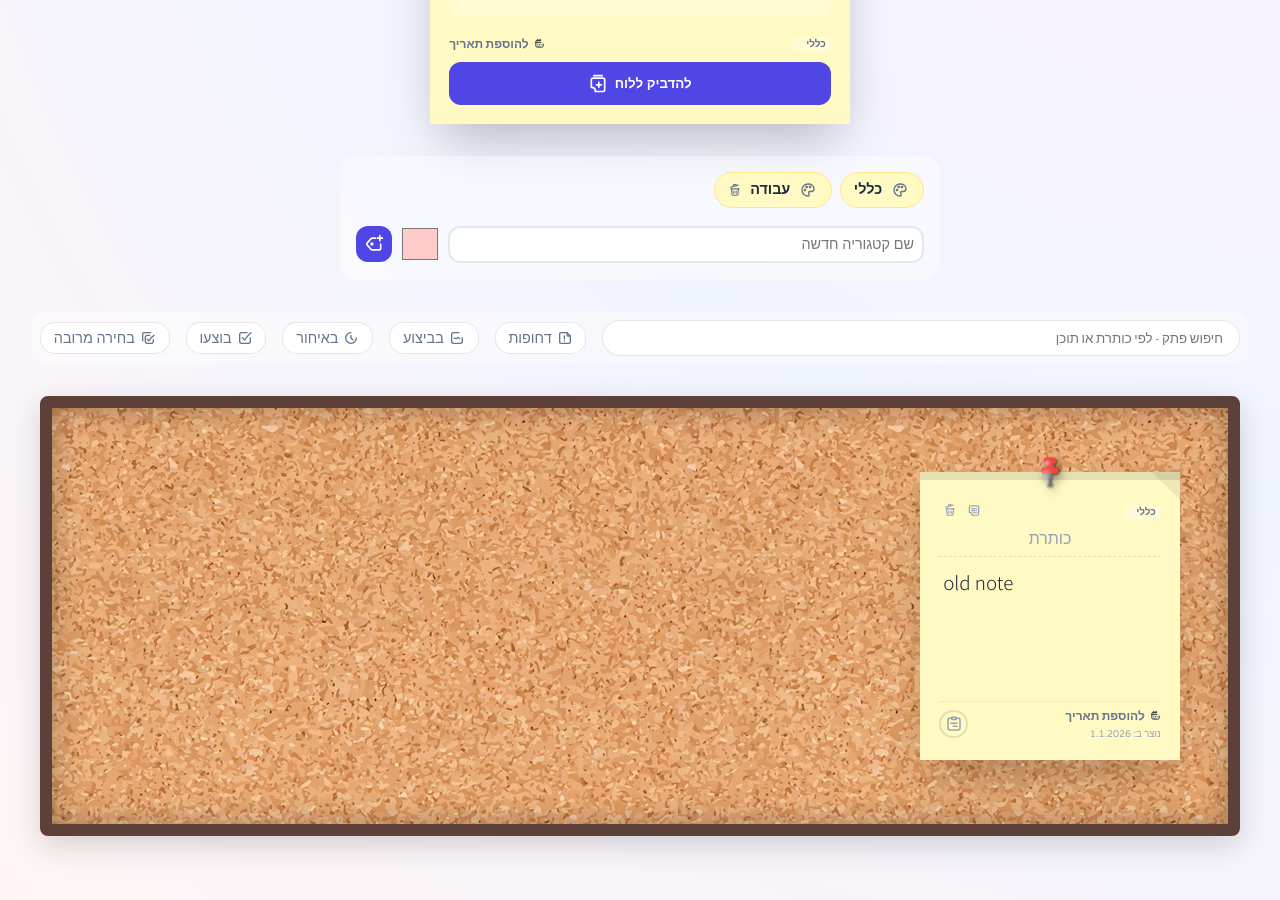
it: deleting a note › removes the note after the deletion is confirmed
The width and height of the screenshot is (1280, 900).
(page scrolled)
Click the button named "מחיקה" at (950, 512), box [939,500,961,526]
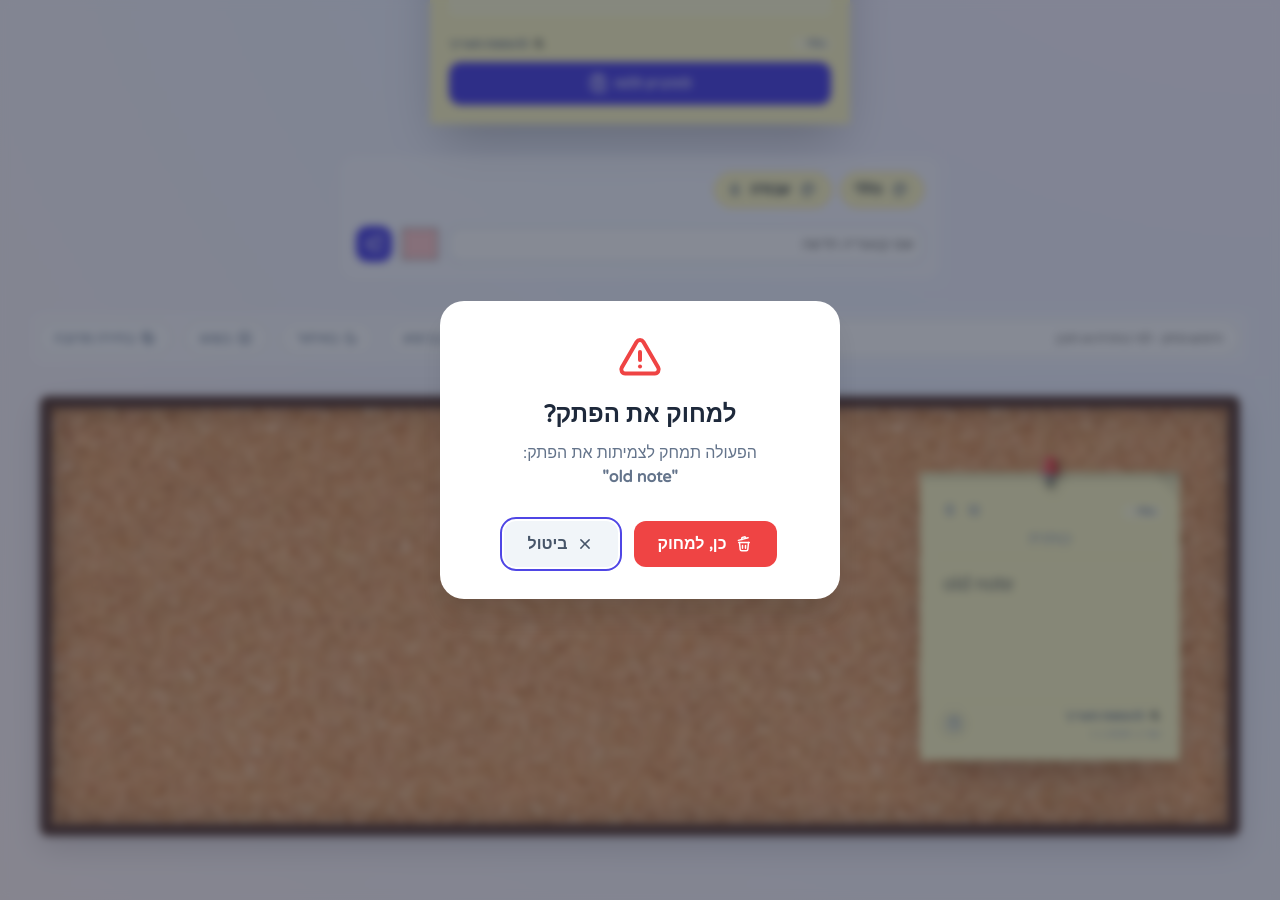
Click the button "כן, למחוק" at (705, 544), box [634,521,776,567]
(page scrolled)
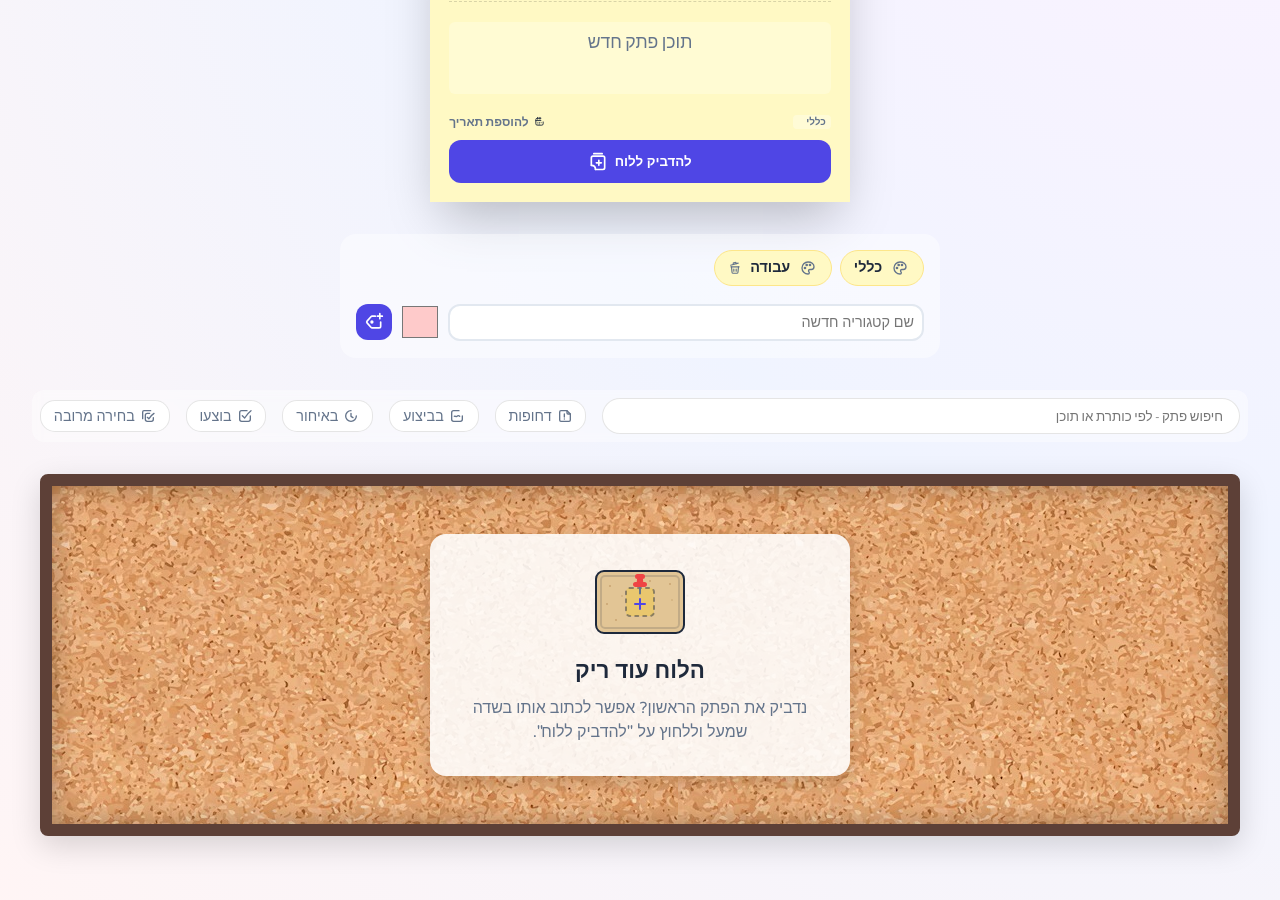
Check: the text "old note" is gone
